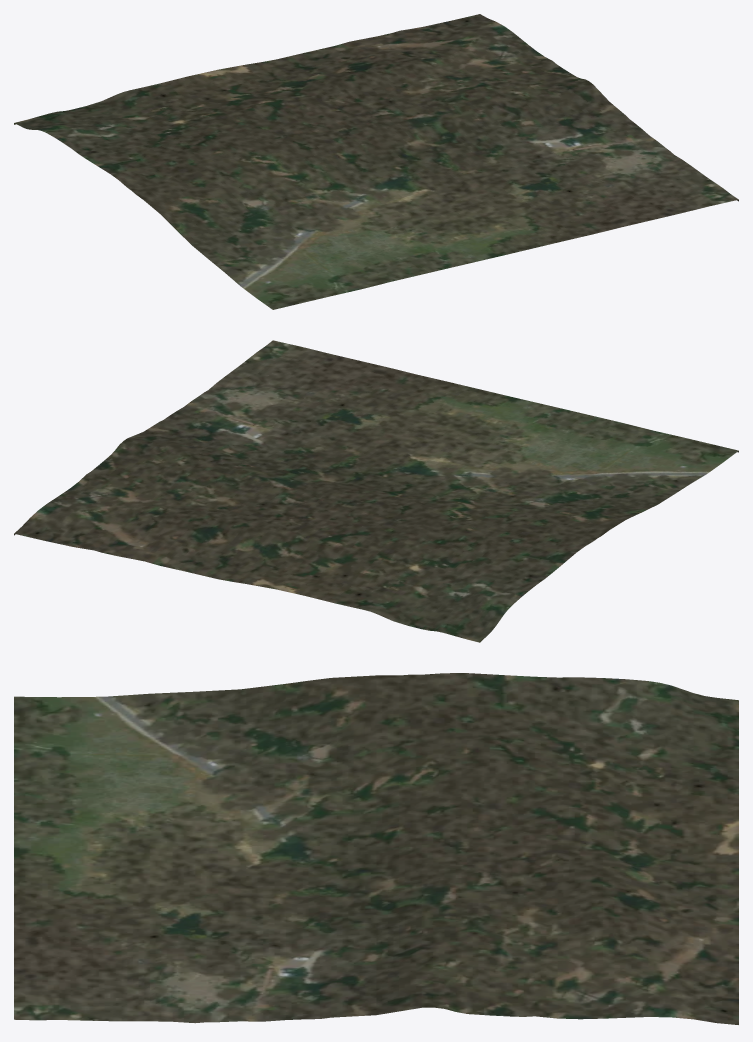
3 renders of one model, top to bottom at view 1: azimuth 30°, elevation 25°; view 2: azimuth 150°, elevation 25°; view 3: azimuth 270°, elevation 25°, orthographic. The views are drawn at different scales.
Bounding box in the file's own units: 250 × 13.38 × 241.
Materials: 1 (1 with a texture image).
